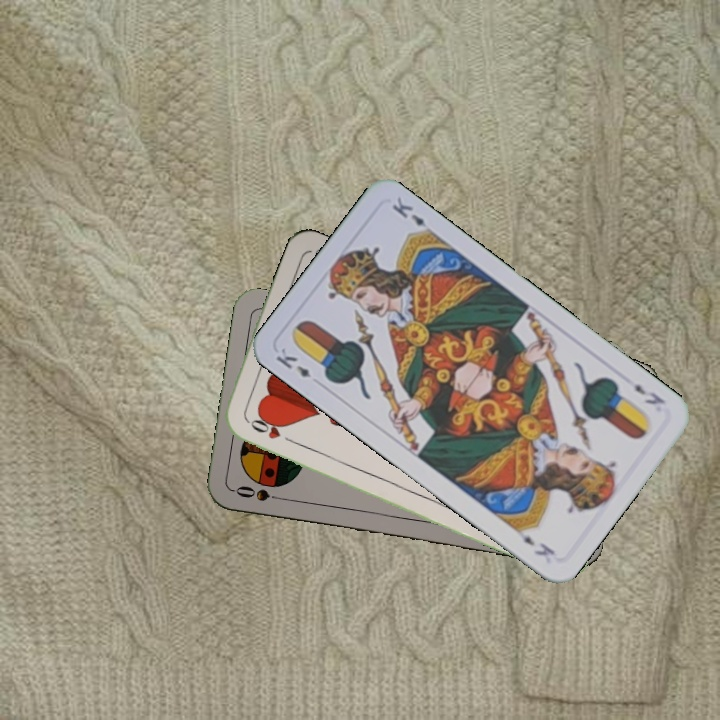EK: (272, 344, 314, 381), (630, 379, 668, 408)
HO: (242, 415, 298, 447)
SO: (231, 481, 290, 504)
